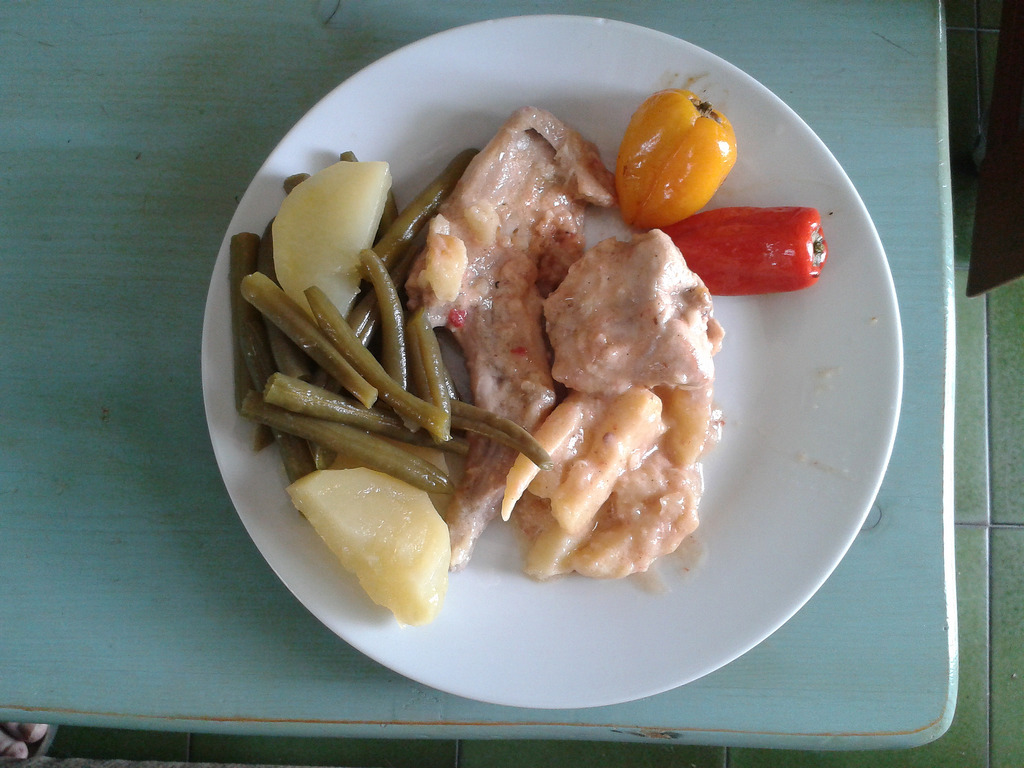boiled peas: (240, 283, 480, 474)
boiled potatoes: (289, 470, 445, 612), (279, 162, 390, 305)
